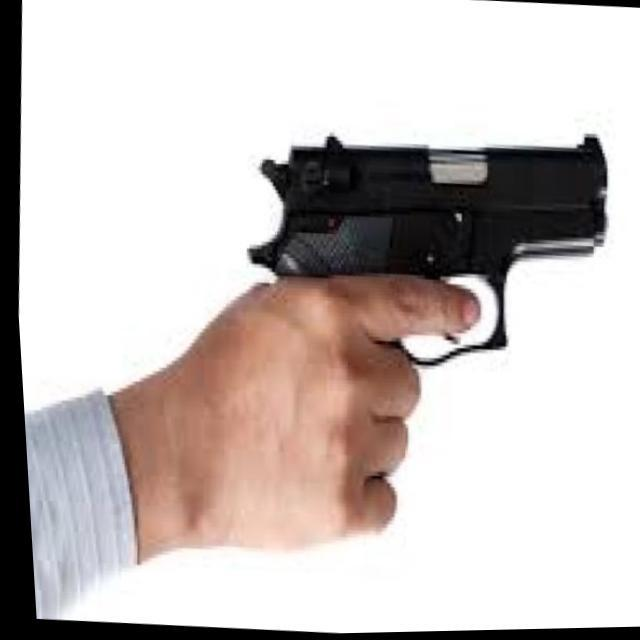weapon: (228, 109, 617, 384)
